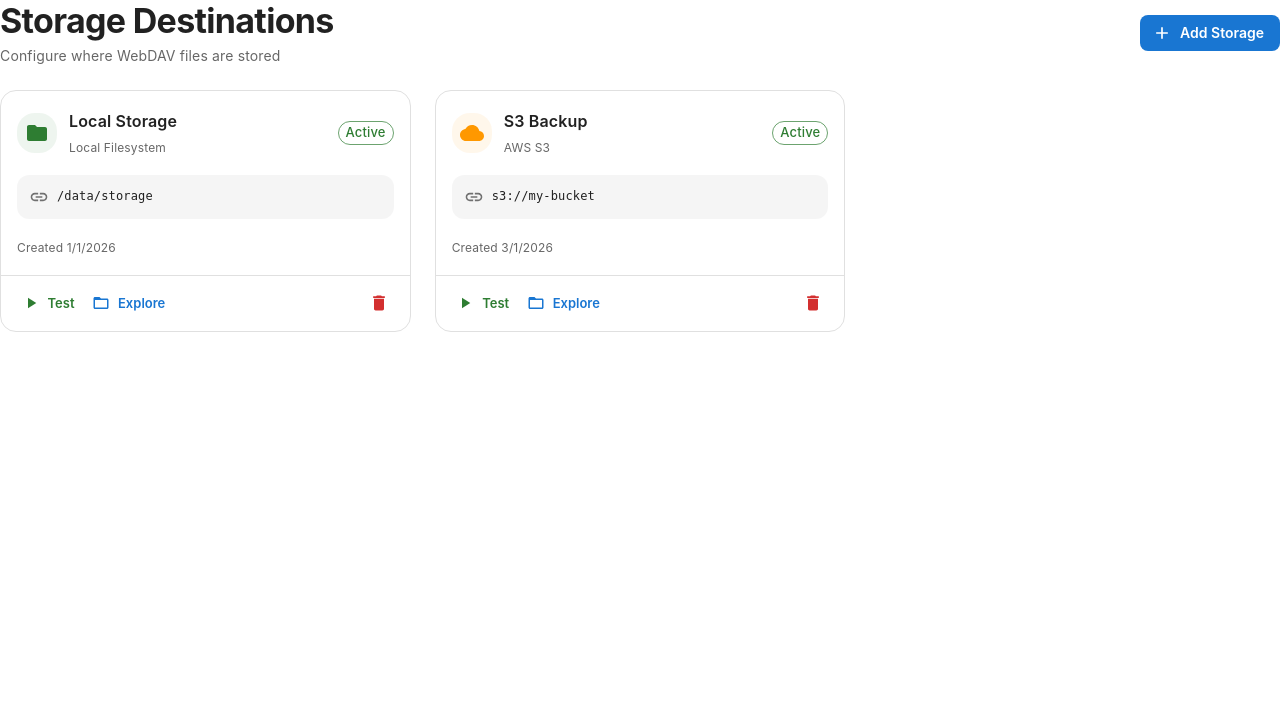
StoragePage › opens create storage dialog
Click the button "Add Storage". click: [1210, 33]
box: x1=1140 y1=15 x2=1279 y2=51
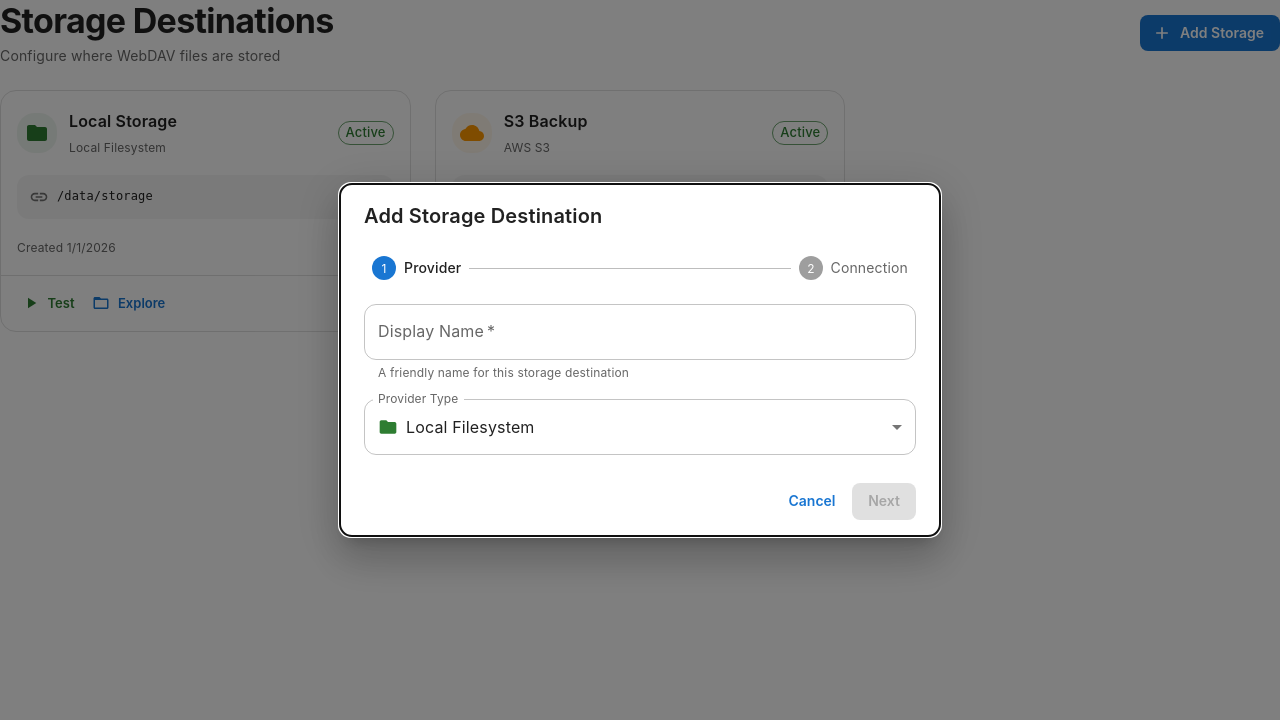
Expected: the heading "Add Storage Destination" is shown, x1=364 y1=204 x2=602 y2=228
